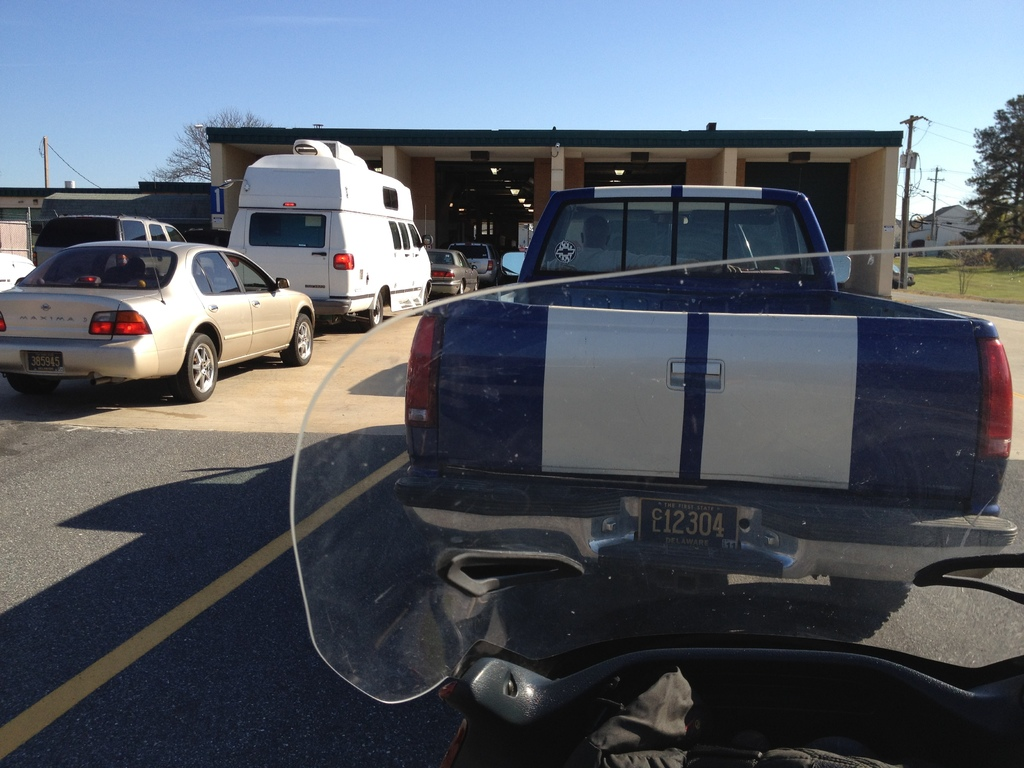Wheel: (173, 337, 218, 404), (831, 576, 915, 609), (283, 316, 312, 364), (6, 373, 60, 395), (360, 294, 383, 331), (492, 276, 500, 287), (459, 281, 465, 294), (474, 281, 481, 291)
